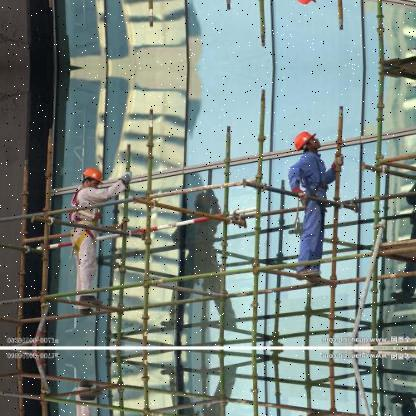helmet: (82, 165, 106, 189), (293, 129, 318, 152), (293, 0, 319, 4)
